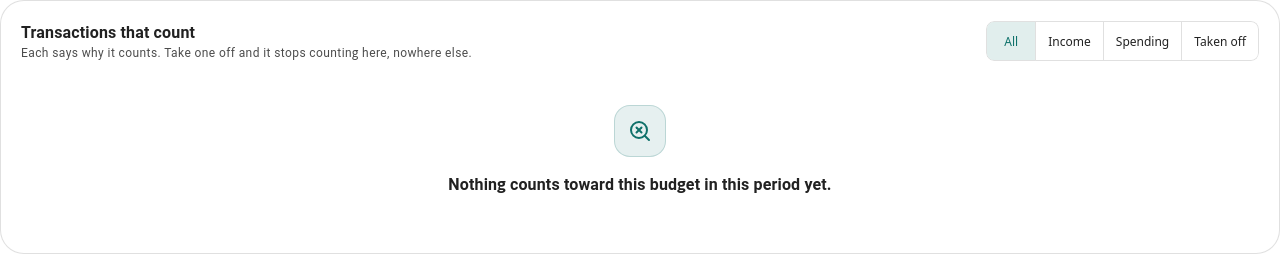
Test: BudgetTransactions › says so when nothing counts under removed
Click the button "Taken off".
click(1221, 41)  # box [1182, 21, 1259, 61]
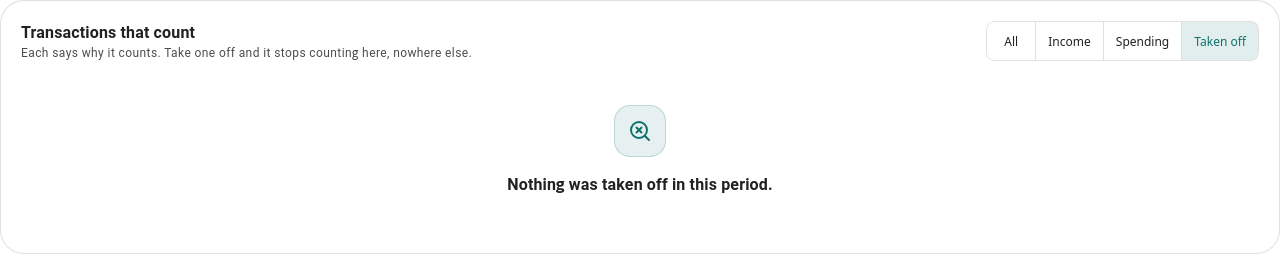
Now the element with test id "transactions-empty" reads "Nothing was taken off in this period.", box [507, 175, 773, 194]
